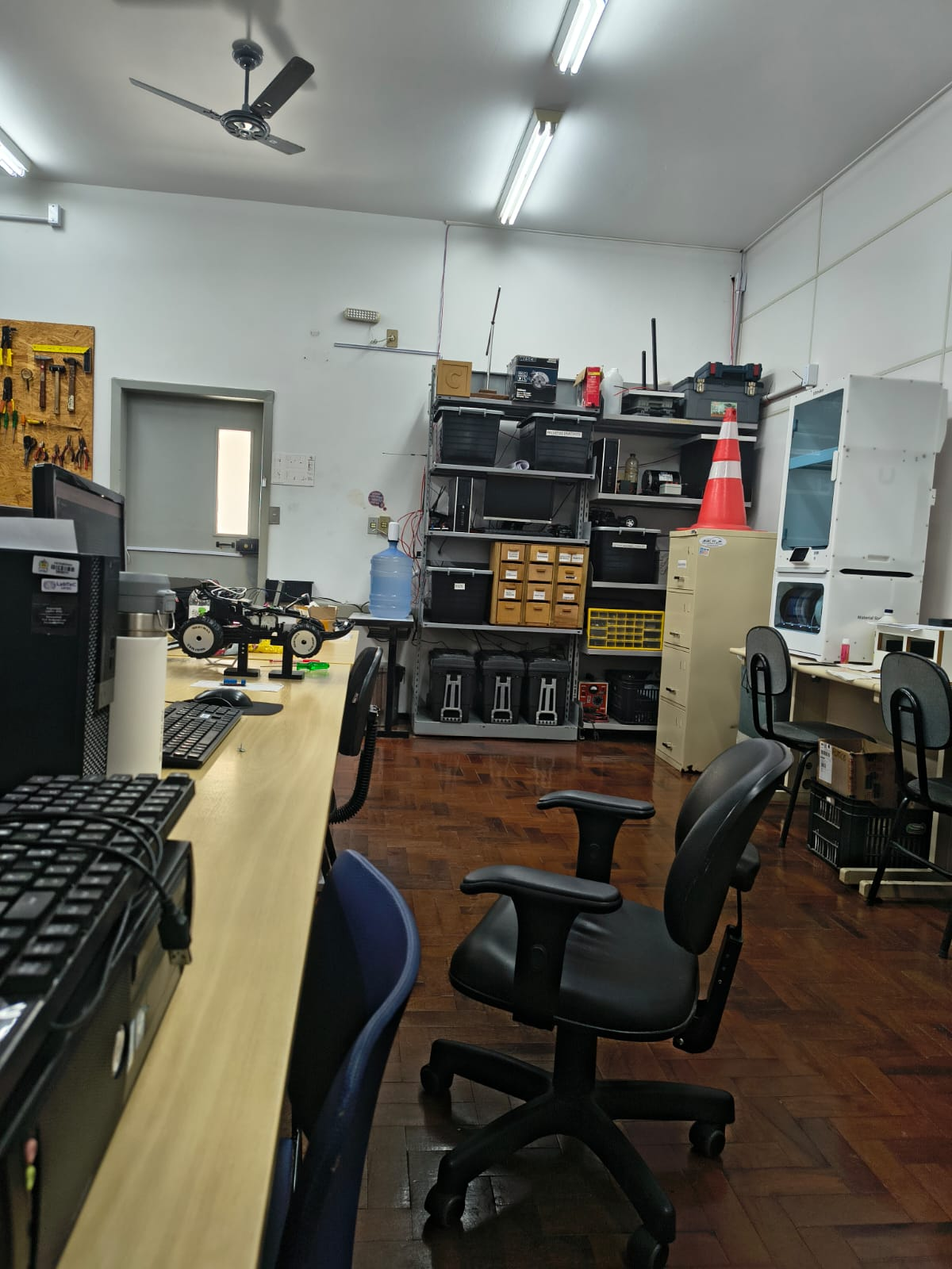cone: (682, 400, 757, 550)
